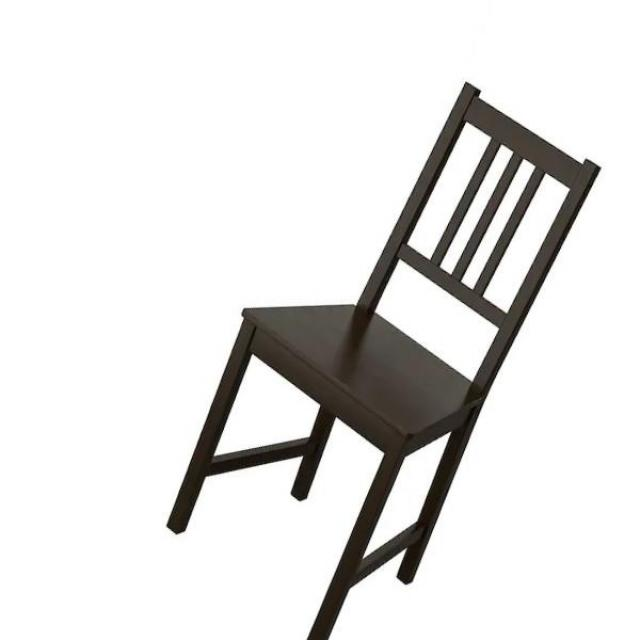Chair: (161, 80, 602, 639)
